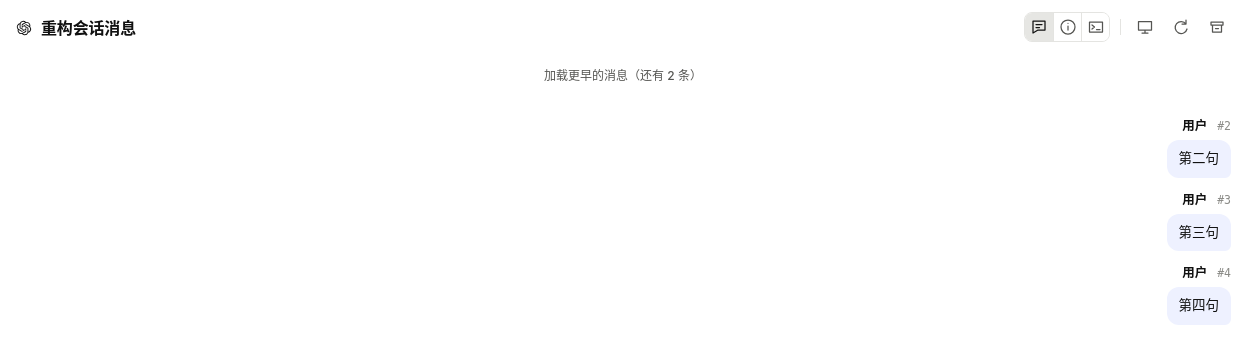
Test: reloads from the tail when the conversation was rewritten
Click the button "加载更早的消息（还有 2 条）". click: x=623, y=76
box: [533,62,713,90]
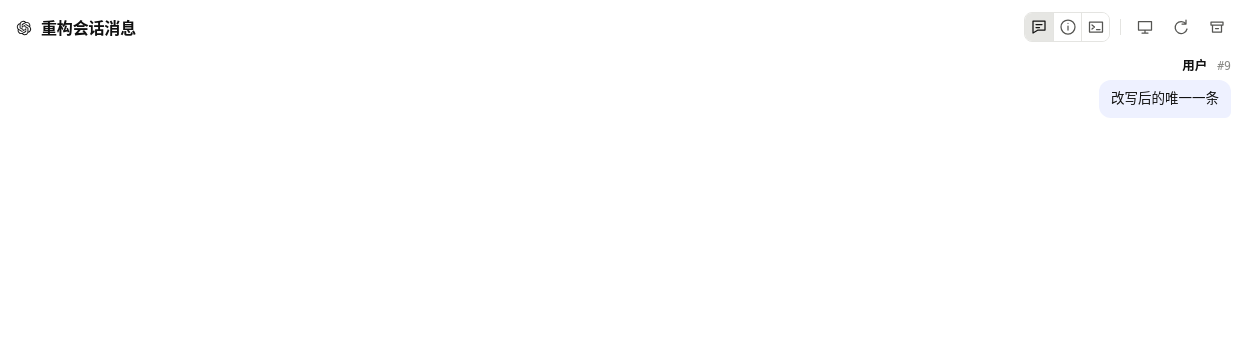
Now the button "改写后的唯一一条" is shown, box [1099,80,1231,118]
